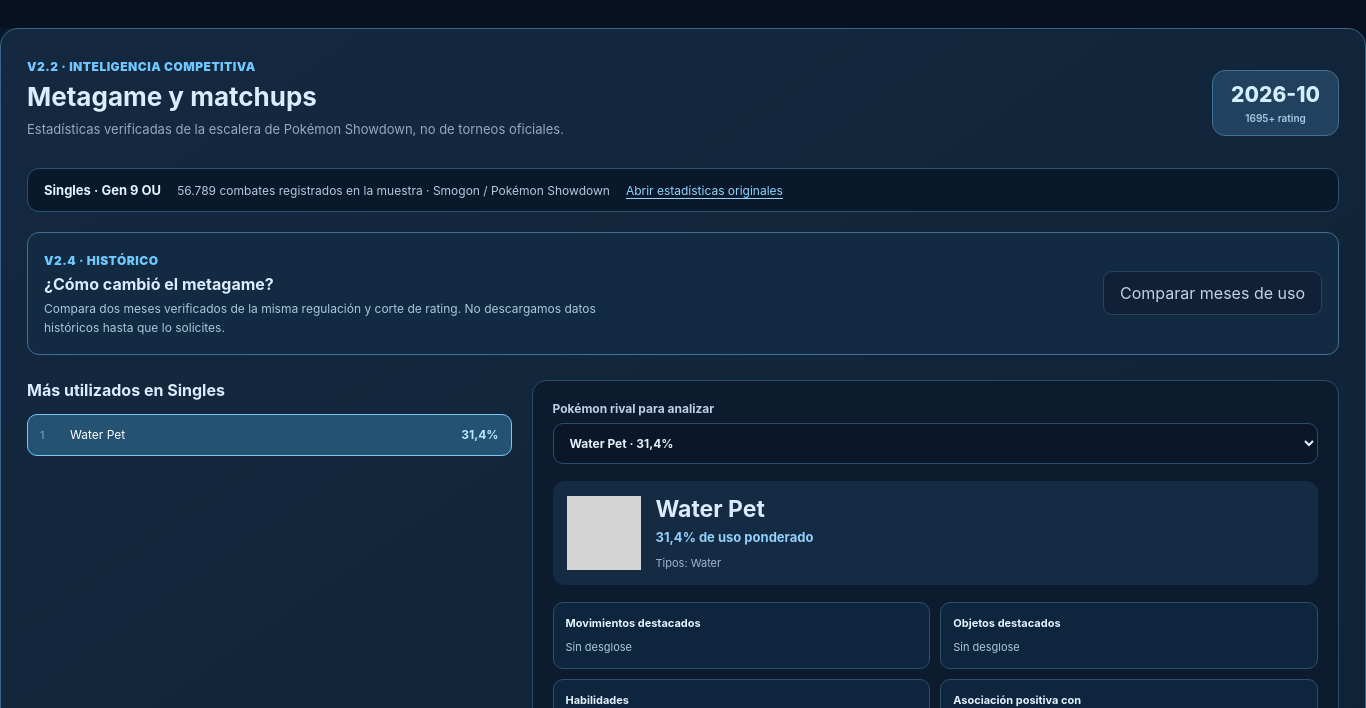
Test: V2.2 browser meta panel › does not request historical stats until the user opens the V2.4 comparison
Check: the text "2026-10" is shown, box [1231,82,1320,107]
Click the button "Comparar meses de uso" at (1212, 293), box [1103,271,1322,315]
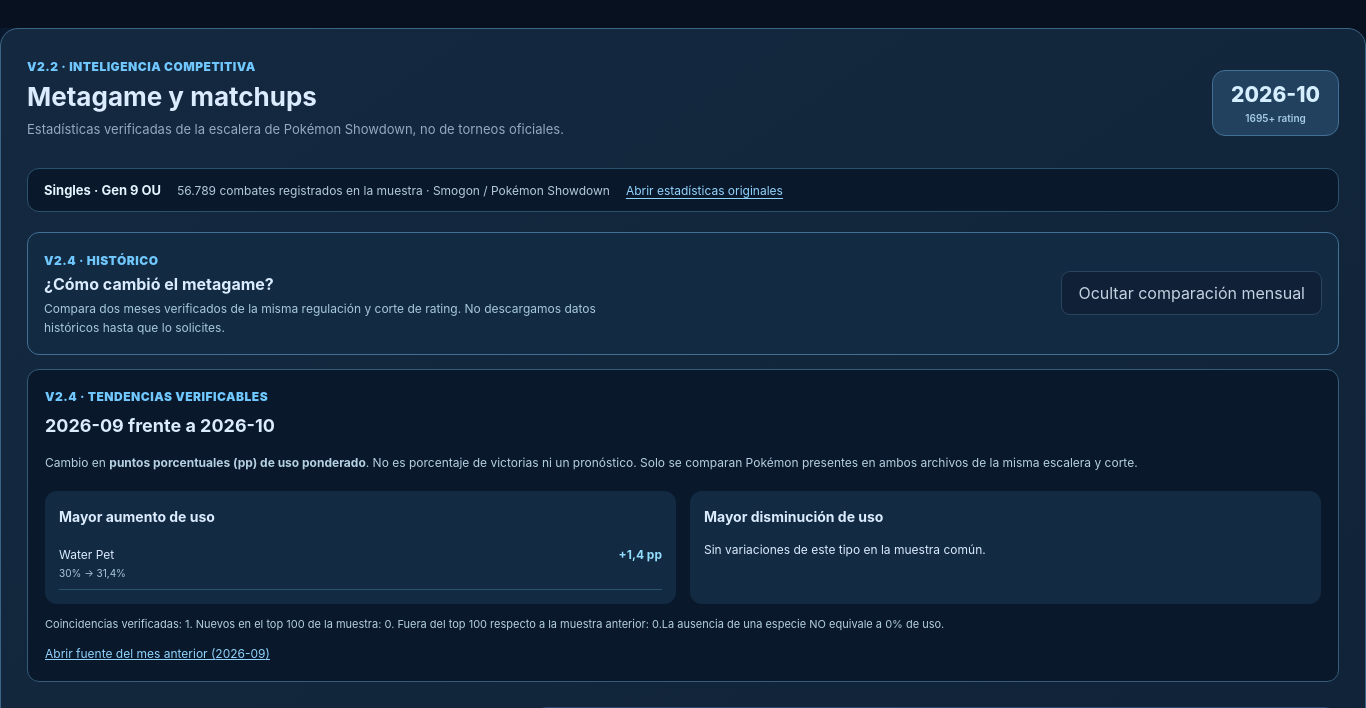
Check: the heading "2026-09 frente a 2026-10" is shown, box [45,415,275,436]
Click the button "Ocultar comparación mensual" at (1192, 293), box [1061,271,1322,315]
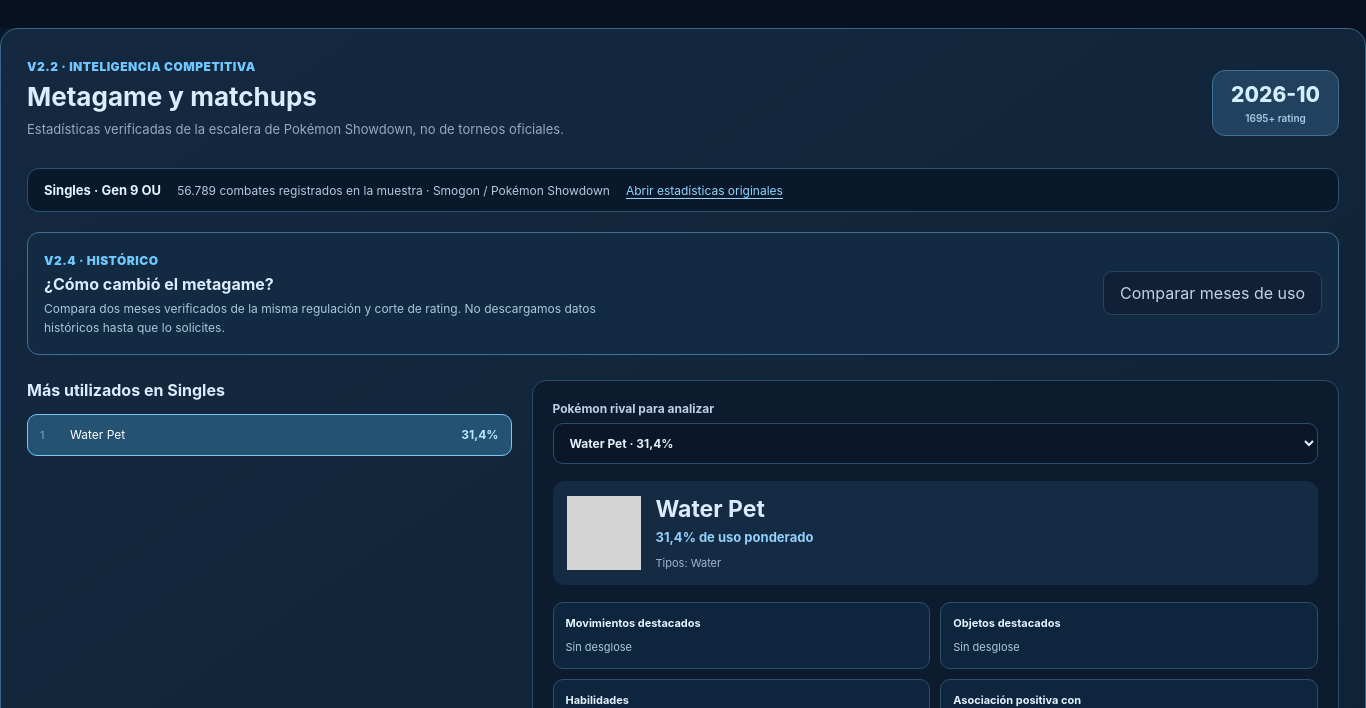
Check: the heading "2026-09 frente a 2026-10" is gone
